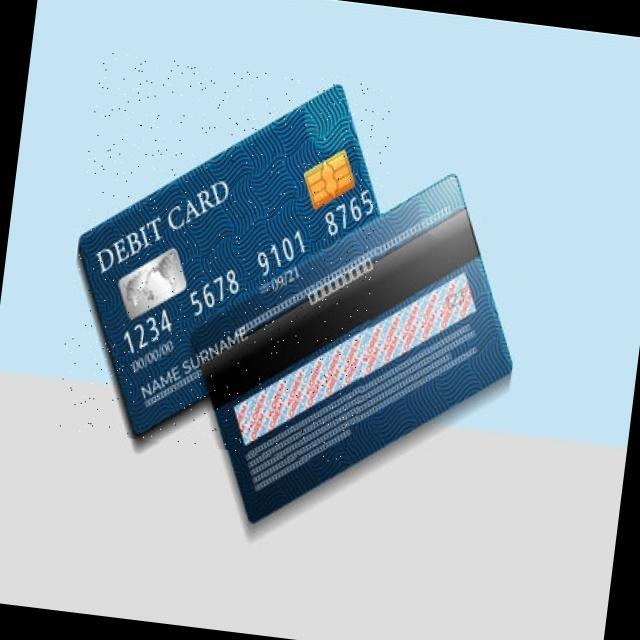payment_card: (187, 175, 513, 522), (76, 82, 381, 439)
